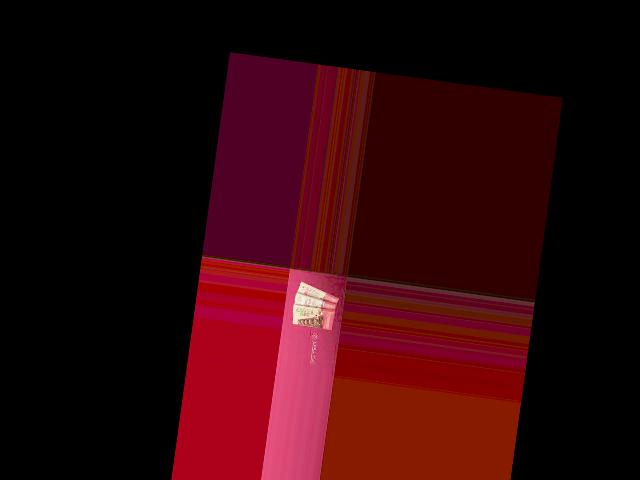chocolate: (293, 281, 342, 308)
